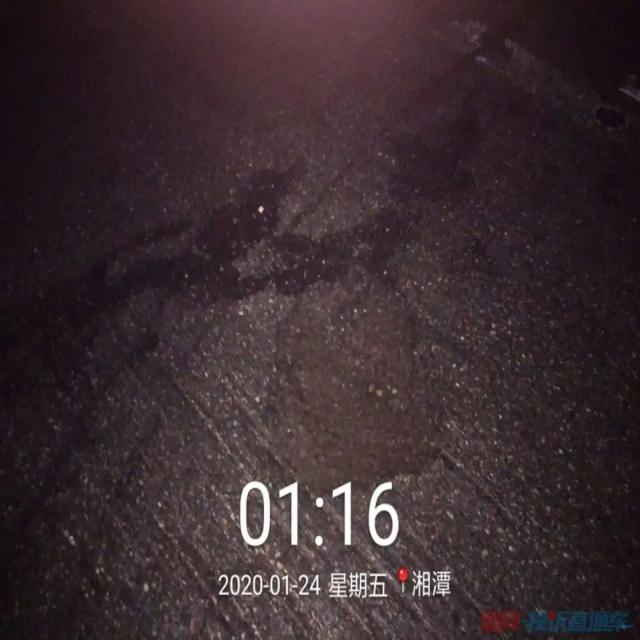Pothole: (264, 285, 462, 488)
